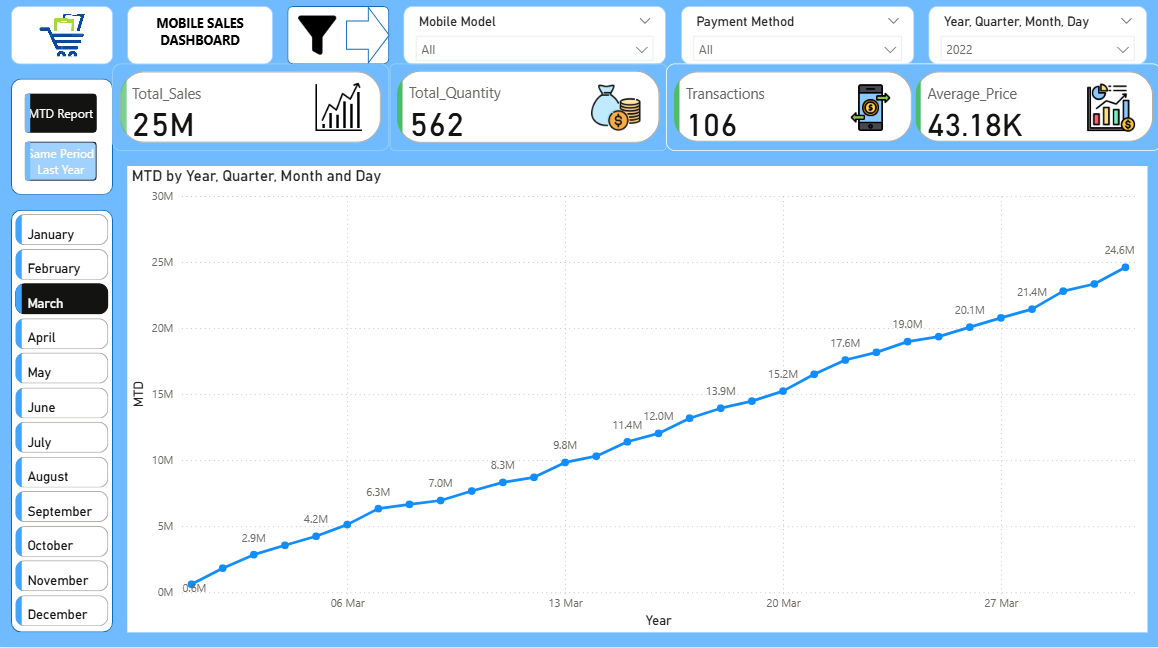

This screenshot's page, from the dashboard's own definition file:
{"tool":"powerbi","page":{"name":"MTD Report","canvas":[1280,720],"ordinal":1},"visuals":[{"type":"shape","box":[16,96,112,128],"z":0},{"type":"slicer","fields":{"Values":["Mobile_Sales_Data.Mobile Model"]},"box":[448,16,288,64],"z":1000},{"type":"slicer","fields":{"Values":["Mobile_Sales_Data.Payment Method"]},"box":[752,16,256,64],"z":2000},{"type":"slicer","fields":{"Values":["Custom_Calendar.Date.Variation.Date Hierarchy.Year","Custom_Calendar.Date.Variation.Date Hierarchy.Quarter","Custom_Calendar.Date.Variation.Date Hierarchy.Month","Custom_Calendar.Date.Variation.Date Hierarchy.Day"]},"box":[1024,16,240,64],"z":3000},{"type":"image","box":[16,16,112,64],"z":4000},{"type":"pageNavigator","box":[32,112,80,96],"z":5000},{"type":"cardVisual","fields":{"Data":["Mobile_Sales_Data.Total_Sales"]},"box":[128,80,304,96],"z":6000},{"type":"image","box":[336,96,80,64],"z":7000},{"type":"cardVisual","fields":{"Data":["Mobile_Sales_Data.Total_Quantity"]},"box":[432,80,304,96],"z":8000},{"type":"image","box":[624,96,112,64],"z":9000},{"type":"cardVisual","fields":{"Data":["Mobile_Sales_Data.Transactions","Mobile_Sales_Data.Average_Price"]},"box":[736,80,544,96],"z":10000},{"type":"image","box":[896,96,128,64],"z":11000},{"type":"image","box":[1184,96,80,64],"z":12000},{"type":"textbox","box":[144,16,160,64],"z":13000},{"type":"shape","box":[400,32,32,32],"z":14000},{"type":"shape","box":[320,16,112,64],"z":15000},{"type":"image","box":[304,16,96,64],"z":16000},{"type":"shape","box":[384,16,48,64],"z":17000},{"type":"shape","box":[16,240,112,464],"z":18000},{"type":"advancedSlicerVisual","fields":{"Values":["Custom_Calendar.Date.Variation.Date Hierarchy.Month"]},"box":[16,240,112,464],"z":19000},{"type":"lineChart","fields":{"Category":["Custom_Calendar.Date.Variation.Date Hierarchy.Year","Custom_Calendar.Date.Variation.Date Hierarchy.Quarter","Custom_Calendar.Date.Variation.Date Hierarchy.Month","Custom_Calendar.Date.Variation.Date Hierarchy.Day"],"Y":["Mobile_Sales_Data.MTD"]},"box":[144,192,1120,512],"z":20000}]}

Visuals, with their boxes in screenshot pixels (x1, y1, x2, y2), scaled from the page's 1280x720 canvas onto the 1158x648 screenshot:
shape: 14/86/116/202
slicer - Mobile_Sales_Data.Mobile Model: 405/14/666/72
slicer - Mobile_Sales_Data.Payment Method: 680/14/912/72
slicer - Custom_Calendar.Date.Variation.Date Hierarchy.Year x Custom_Calendar.Date.Variation.Date Hierarchy.Quarter: 926/14/1144/72
image: 14/14/116/72
pageNavigator: 29/101/101/187
cardVisual - Mobile_Sales_Data.Total_Sales: 116/72/391/158
image: 304/86/376/144
cardVisual - Mobile_Sales_Data.Total_Quantity: 391/72/666/158
image: 565/86/666/144
cardVisual - Mobile_Sales_Data.Transactions x Mobile_Sales_Data.Average_Price: 666/72/1157/158
image: 811/86/926/144
image: 1071/86/1144/144
textbox: 130/14/275/72
shape: 362/29/391/58
shape: 290/14/391/72
image: 275/14/362/72
shape: 347/14/391/72
shape: 14/216/116/634
advancedSlicerVisual - Custom_Calendar.Date.Variation.Date Hierarchy.Month: 14/216/116/634
lineChart - Custom_Calendar.Date.Variation.Date Hierarchy.Year x Custom_Calendar.Date.Variation.Date Hierarchy.Quarter: 130/173/1144/634
